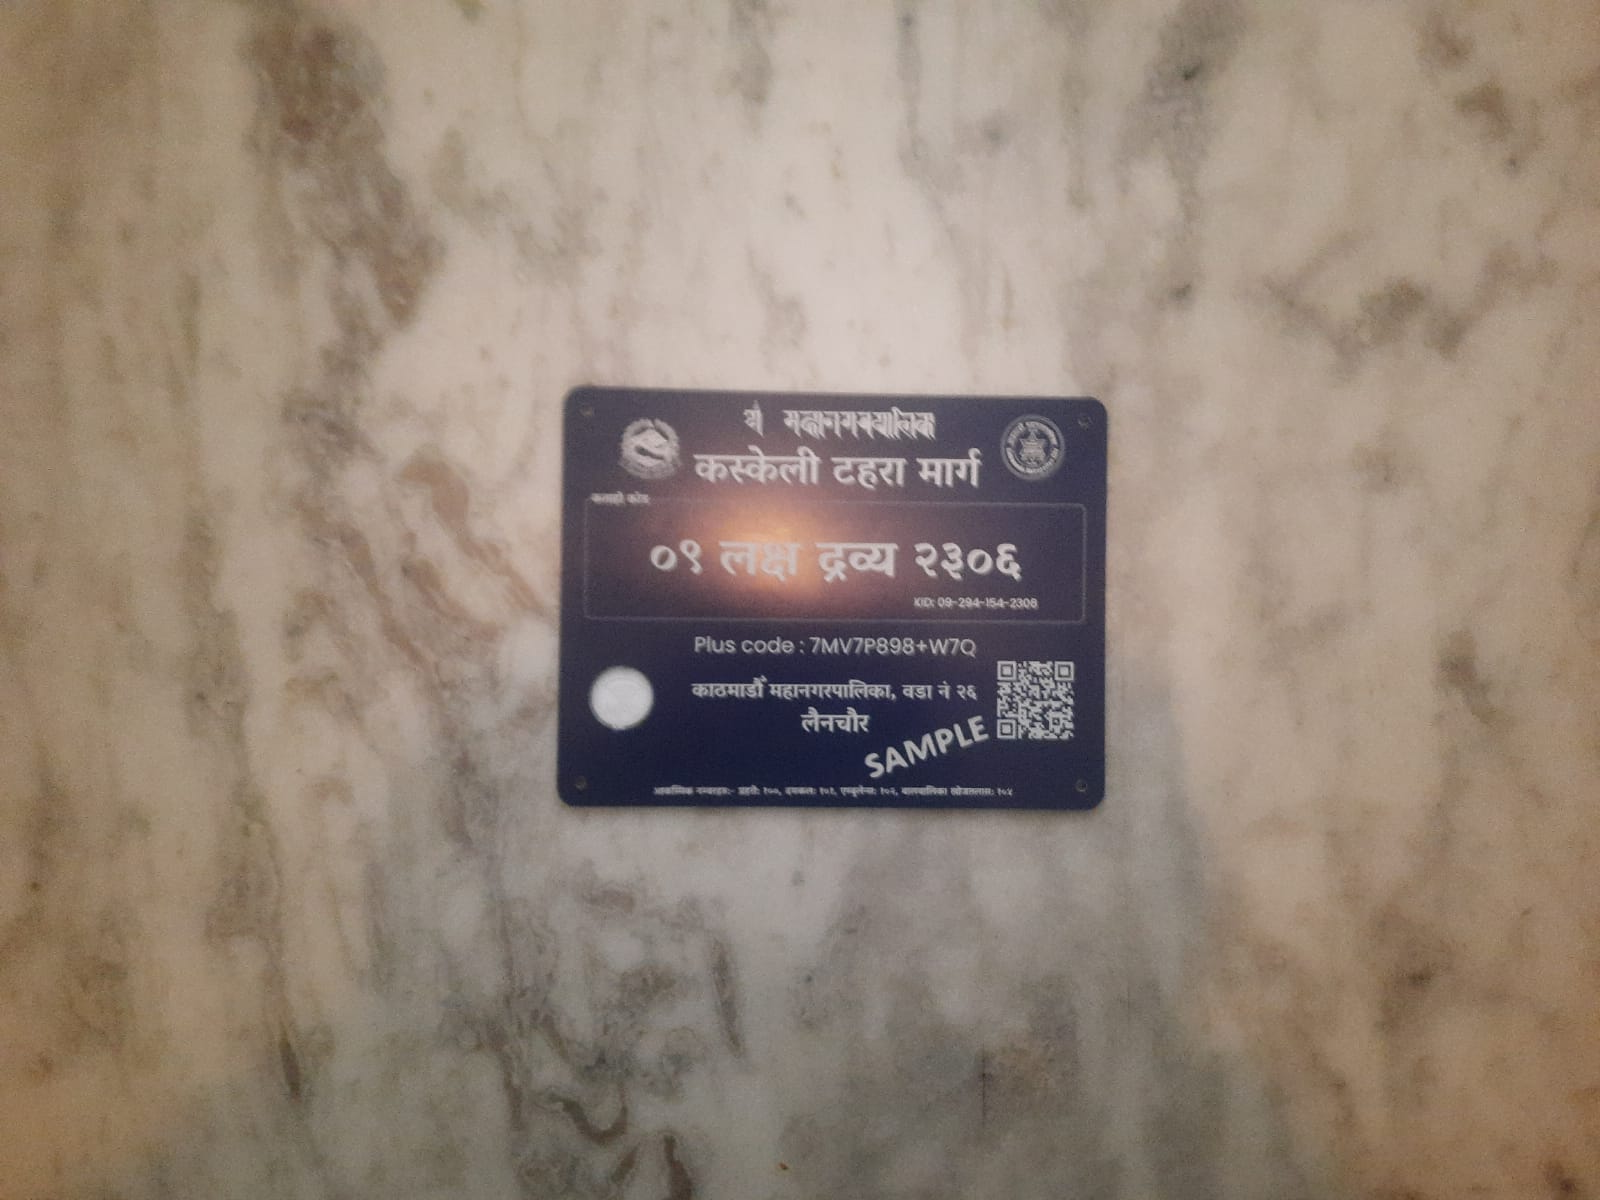Plate: (552, 382, 1121, 820)
